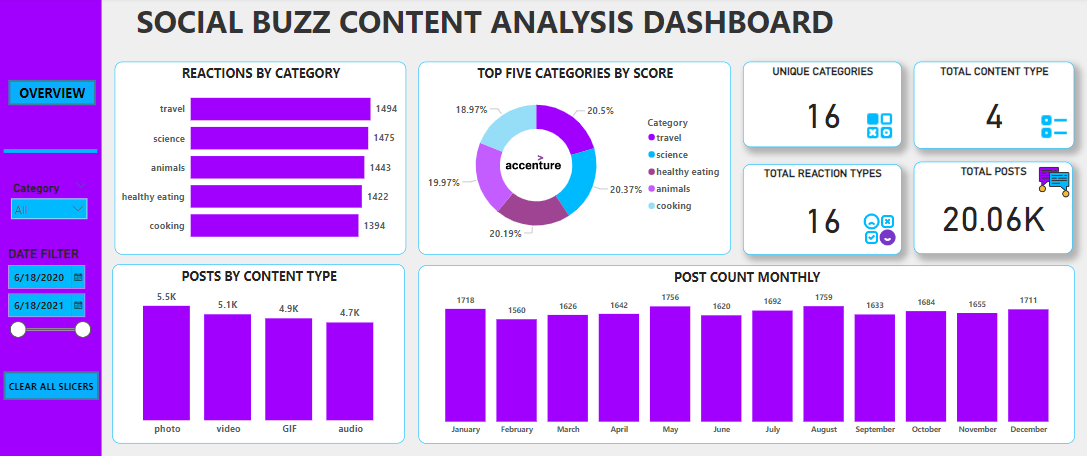

The dashboard page shown, as its layout file describes it:
{"tool":"powerbi","page":{"name":"Page 1","canvas":[1700,720],"ordinal":0},"visuals":[{"type":"donutChart","title":"TOP FIVE CATEGORIES BY SCORE","fields":{"Category":["Top 5 Categories.Category "],"Y":["Top 5 Categories.Score"]},"box":[654.2,101.1,488.3,301.4],"z":0},{"type":"clusteredColumnChart","title":"POSTS BY CONTENT TYPE","fields":{"Category":["Cleaned Data.Content  Type"],"Y":["Cleaned Data.Content ID"]},"box":[175.1,418,457.7,280.2],"z":1000},{"type":"clusteredColumnChart","title":"POST COUNT MONTHLY","fields":{"Category":["Cleaned Data.Datetime.Variation.Date Hierarchy.Month"],"Y":["Cleaned Data.Content ID"]},"box":[654.2,419.6,1026.2,278.5],"z":2000},{"type":"card","title":"UNIQUE CATEGORIES","fields":{"Values":["Cleaned Data.Category "]},"box":[1161.1,101.7,248.1,134],"z":3000},{"type":"textbox","box":[207.9,0,1255,87.7],"z":4000},{"type":"card","title":"TOTAL REACTION TYPES","fields":{"Values":["Cleaned Data.Reaction Type"]},"box":[1161.1,260.5,248.1,141.4],"z":5000},{"type":"card","title":"TOTAL CONTENT TYPE","fields":{"Values":["Cleaned Data.Content  Type"]},"box":[1429,101.7,250.6,136.5],"z":6000},{"type":"card","title":"TOTAL POSTS","fields":{"Values":["Cleaned Data.Content ID"]},"box":[1429,258,248.1,143.9],"z":7000},{"type":"shape","box":[0,0,158.8,719.5],"z":8000},{"type":"clusteredBarChart","title":"REACTIONS BY CATEGORY","fields":{"Y":["Cleaned Data.Reaction Type"],"Category":["Cleaned Data.Category "]},"box":[179.3,101.1,455.9,301.4],"z":9000},{"type":"actionButton","box":[12.4,129,136.5,39.7],"z":10000},{"type":"shape","box":[5,205.9,146.4,69.5],"z":11000},{"type":"slicer","fields":{"Values":["Cleaned Data.Category "]},"box":[8.2,282.2,139.1,77.7],"z":12000},{"type":"slicer","fields":{"Values":["Cleaned Data.Datetime"]},"box":[0,385.3,150.7,160.2],"z":13000},{"type":"actionButton","box":[5,585.5,148.9,44.7],"z":14000},{"type":"image","box":[1343.7,169.7,65.4,63.4],"z":15000},{"type":"image","box":[1343.7,331.3,65.4,63.4],"z":16000},{"type":"image","box":[1619.8,257.7,57.3,63.4],"z":17000},{"type":"image","box":[1619.4,169.8,57.2,64.9],"z":18000},{"type":"image","box":[766.8,202.2,131.6,112.5],"z":19000}]}

Visuals, with their boxes in screenshot pixels (x1, y1, x2, y2), scaled from the page's 1700x720 canvas onto the 1087x456 screenshot:
"TOP FIVE CATEGORIES BY SCORE" donutChart: box=[418, 64, 731, 255]
"POSTS BY CONTENT TYPE" clusteredColumnChart: box=[112, 265, 405, 442]
"POST COUNT MONTHLY" clusteredColumnChart: box=[418, 266, 1074, 442]
"UNIQUE CATEGORIES" card: box=[742, 64, 901, 149]
textbox: box=[133, 0, 935, 56]
"TOTAL REACTION TYPES" card: box=[742, 165, 901, 255]
"TOTAL CONTENT TYPE" card: box=[914, 64, 1074, 151]
"TOTAL POSTS" card: box=[914, 163, 1072, 255]
shape: box=[0, 0, 102, 455]
"REACTIONS BY CATEGORY" clusteredBarChart: box=[115, 64, 406, 255]
actionButton: box=[8, 82, 95, 107]
shape: box=[3, 130, 97, 174]
slicer - Cleaned Data.Category : box=[5, 179, 94, 228]
slicer - Cleaned Data.Datetime: box=[0, 244, 96, 345]
actionButton: box=[3, 371, 98, 399]
image: box=[859, 107, 901, 148]
image: box=[859, 210, 901, 250]
image: box=[1036, 163, 1072, 203]
image: box=[1035, 108, 1072, 149]
image: box=[490, 128, 574, 199]
